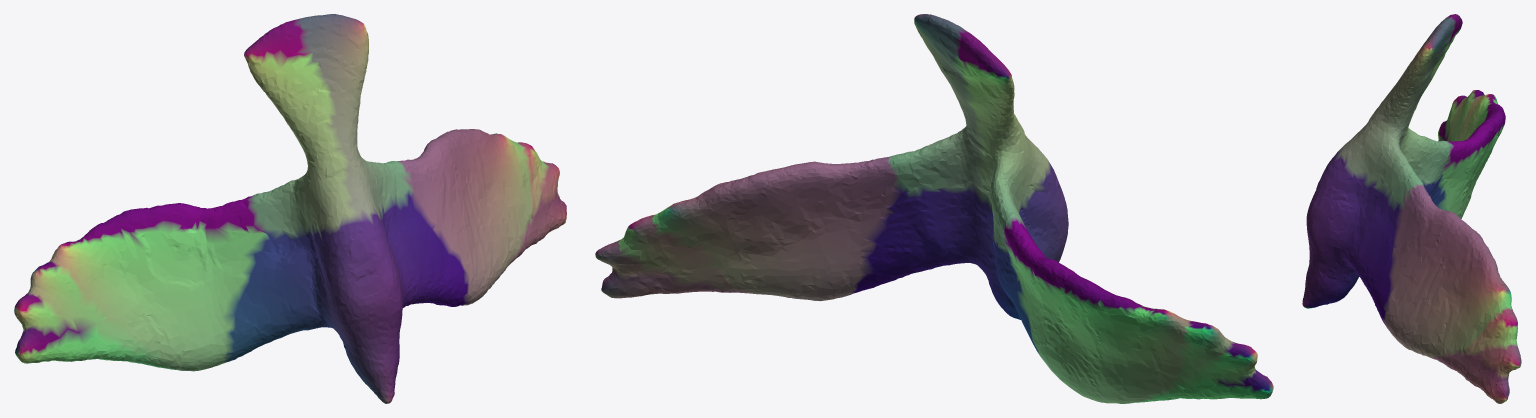
The model's file is bird1-9.off.obj.
3 views of the same model, side by side, from view 1: azimuth 30°, elevation 25°; view 2: azimuth 150°, elevation 25°; view 3: azimuth 270°, elevation 25° (orthographic). The views are drawn at different scales.
Size of the model in its own units: 1.69 by 0.91 by 0.6267.
